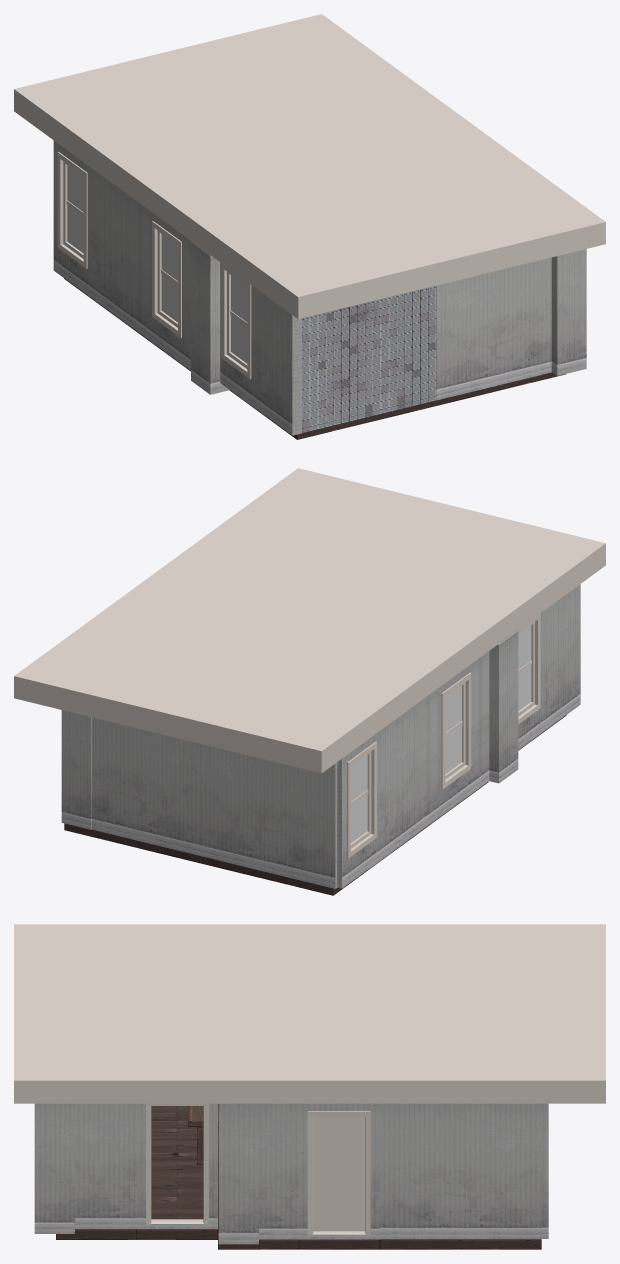
The model's file is Basement House_0.1.fbx.
3 views of the same model, one above another, from view 1: azimuth 30°, elevation 25°; view 2: azimuth 150°, elevation 25°; view 3: azimuth 270°, elevation 25° (orthographic). The views are drawn at different scales.
Parts seen in each view (by area): view 1: Floor.002, WALL.005, WALL.008, WALL_Half_Window.004, WALL_Half.001, WALL_Half_Window.001, WALL_Half.002, WALL_Half_Window.002, WALL_Column.003, WALL_Column.001, Floor Kitchen; view 2: Floor.002, WALL.003, WALL.001, WALL_Half_Window.004, WALL_Half_Window.001, WALL_Half.002, WALL_Half.001, WALL_Column.001, WALL_Column.006, WALL_Half_Window.002, Floor.001; view 3: Floor.002, WALL.006, WALL_Half_Door.002, WALL_Half.003, Floor Kitchen, WALL_Column.004, WALL_Half.004, WALL_Column.003, WALL_Half_Door.001, Floor.001, WALL_Column.006, Counter.003.
Part boxes in pixels (x1,y1,x2,y2): Floor.002: (14,14,605,319); WALL.005: (302,285,436,433); WALL.008: (436,257,551,400); WALL_Half_Window.004: (130,197,190,370); WALL_Half.001: (253,287,301,435); WALL_Half_Window.001: (53,140,92,298); WALL_Half.002: (92,169,131,326); WALL_Half_Window.002: (220,262,256,408); WALL_Column.003: (551,249,586,375); WALL_Column.001: (191,240,229,394); Floor Kitchen: (229,372,565,439); Floor.002: (14,468,605,773); WALL.003: (201,744,337,888); WALL.001: (91,717,200,855); WALL_Half_Window.004: (419,651,489,831); WALL_Half_Window.001: (337,730,380,888); WALL_Half.002: (381,702,419,859); WALL_Half.001: (542,584,580,730); WALL_Column.001: (489,629,518,783); WALL_Column.006: (61,710,91,829); WALL_Half_Window.002: (518,610,544,749); Floor.001: (64,782,488,895); Floor.002: (14,924,605,1103); WALL.006: (380,1103,541,1239); WALL_Half_Door.002: (299,1103,379,1239); WALL_Half.003: (75,1103,138,1229); Floor Kitchen: (56,1106,217,1239); WALL_Column.004: (218,1103,258,1244); WALL_Half.004: (259,1103,300,1239); WALL_Column.003: (34,1103,74,1233); WALL_Half_Door.001: (137,1103,217,1229); Floor.001: (218,1165,541,1249); WALL_Column.006: (541,1103,548,1238); Counter.003: (188,1103,218,1164).
Bounding box in the file's own units: 641 × 342 × 1024.
